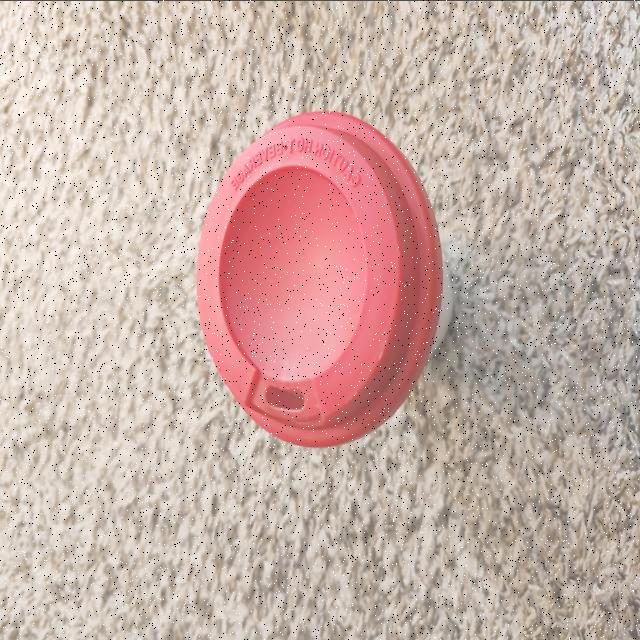mug: (198, 112, 461, 446)
